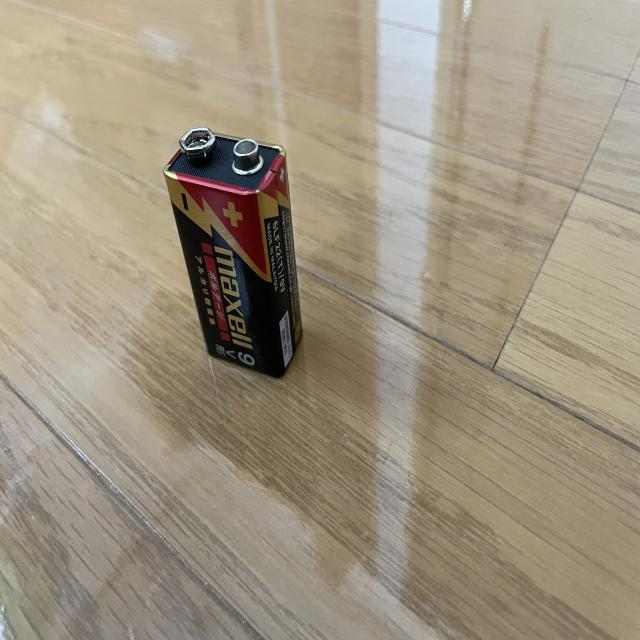9V: (162, 124, 305, 380)
